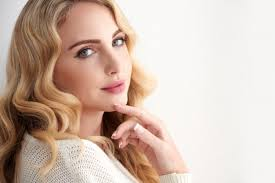white_female: (41, 14, 137, 119)
